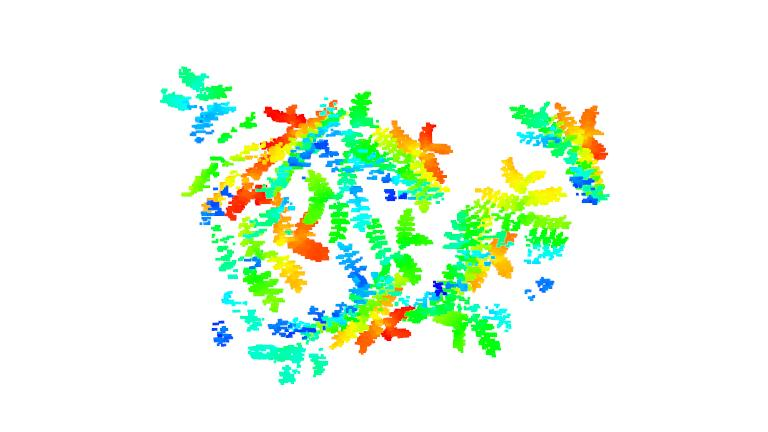chickpea: (244, 205, 433, 386), (153, 67, 284, 223), (188, 206, 323, 350), (403, 216, 522, 361), (262, 90, 372, 238), (340, 83, 461, 213), (451, 157, 577, 255), (511, 100, 613, 206)
